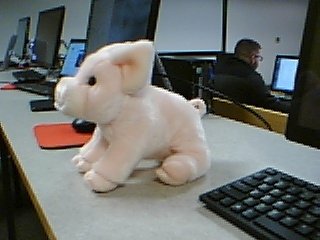piggy: (52, 37, 215, 196)
